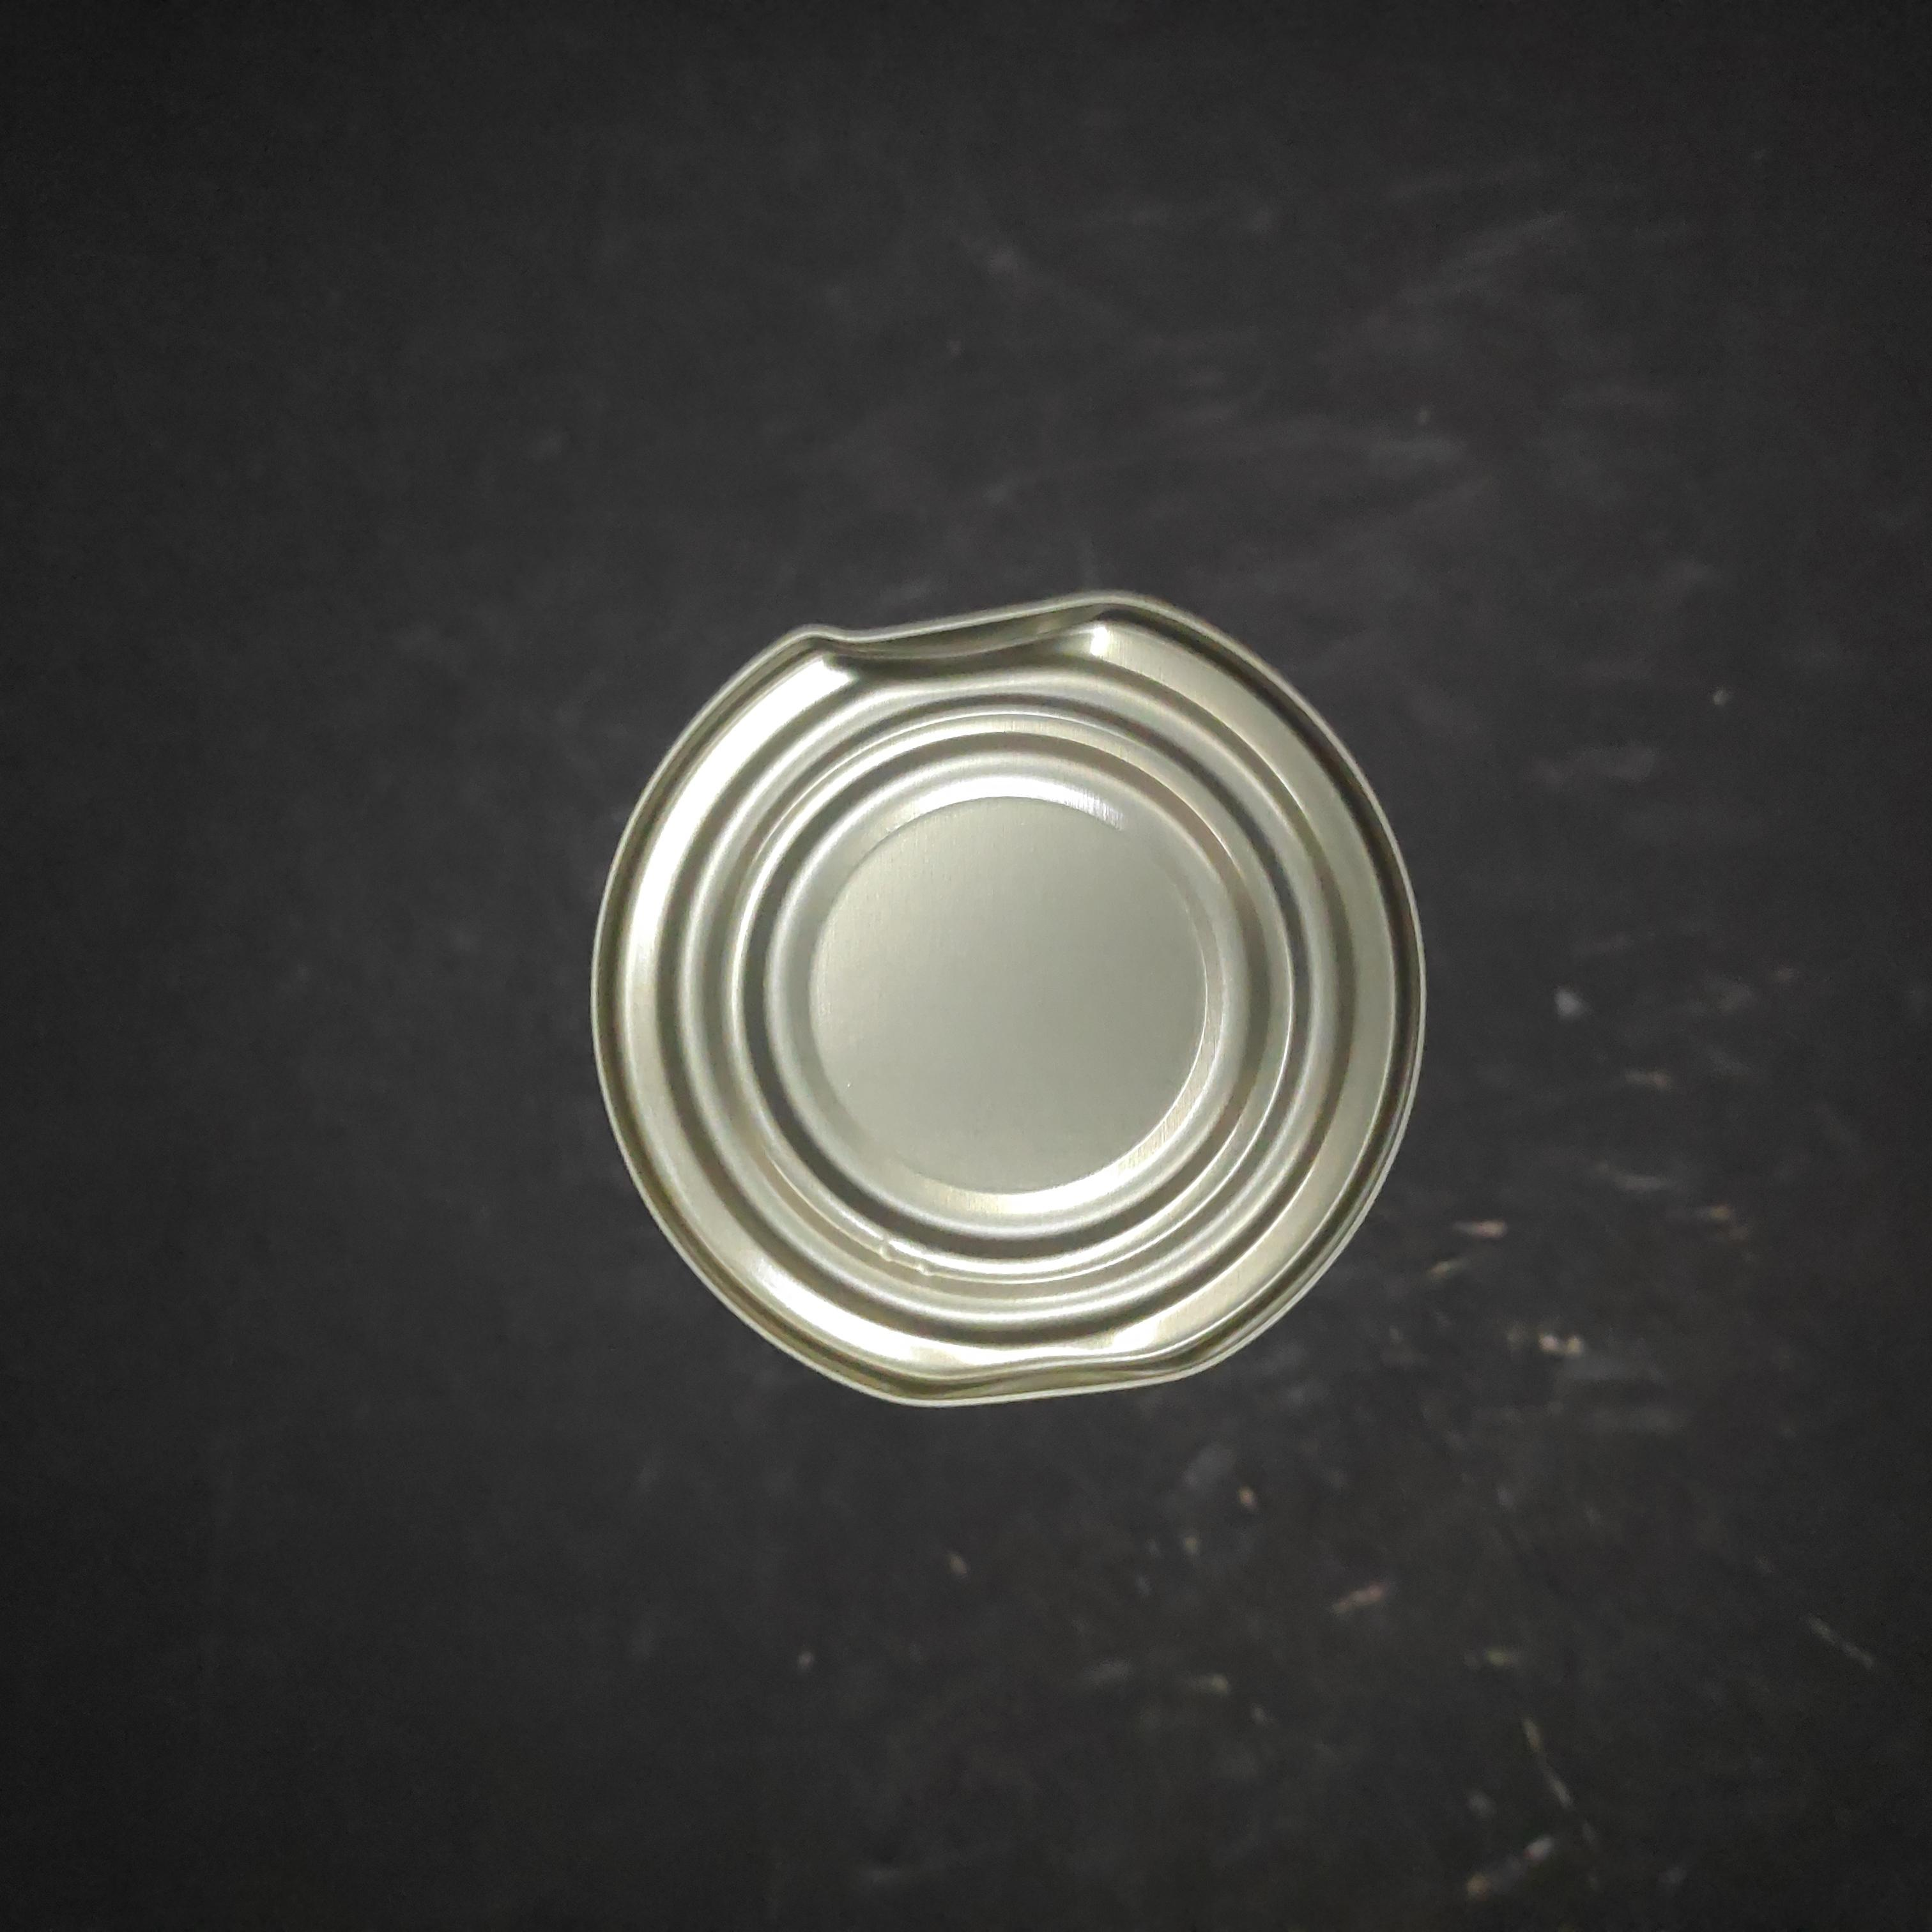Minor Defect: (490, 506, 1341, 1382)
